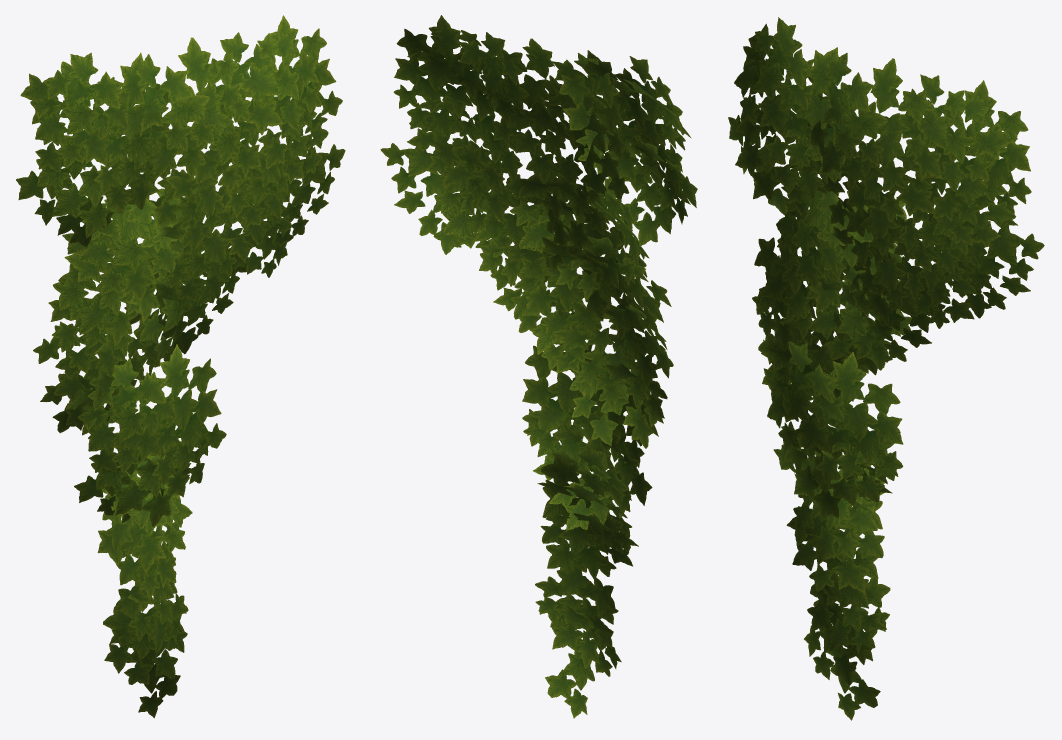
The model's file is SM_fwOF_IvyGroup_08.fbx.
3 renders of one model, left to right at view 1: azimuth 30°, elevation 25°; view 2: azimuth 150°, elevation 25°; view 3: azimuth 330°, elevation 25°, orthographic.
Visible parts, largest first — view 1: SM_fwOF_IvyGroup_08_LOD0; view 2: SM_fwOF_IvyGroup_08_LOD0; view 3: SM_fwOF_IvyGroup_08_LOD0.
Boxes of the visible parts, box(x1,y1,x2,y2) form: SM_fwOF_IvyGroup_08_LOD0: box(16, 15, 345, 718); SM_fwOF_IvyGroup_08_LOD0: box(380, 15, 697, 718); SM_fwOF_IvyGroup_08_LOD0: box(728, 17, 1044, 720).
Size of what is drawn, in the model's own units: 1.87 by 3.77 by 0.4419.
